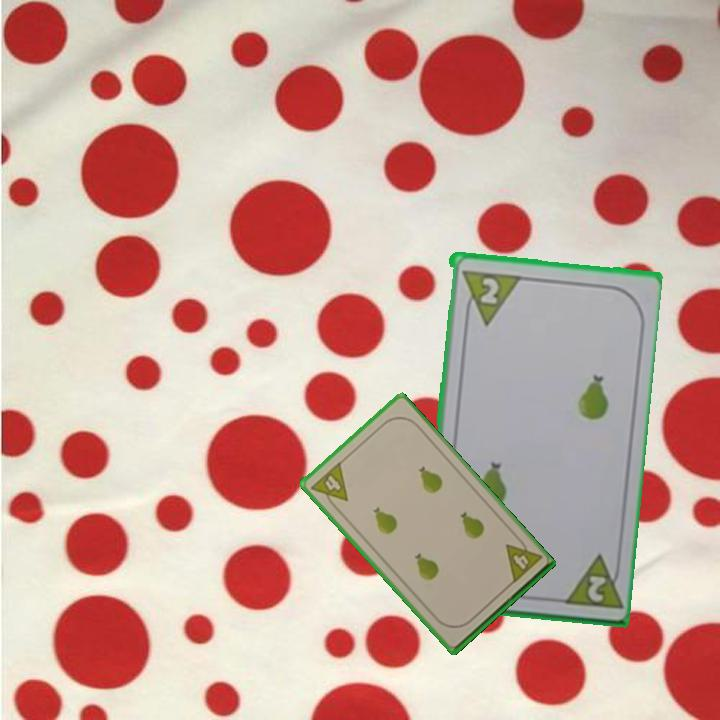2p: (475, 273, 502, 307), (583, 571, 608, 605)
4p: (307, 458, 351, 513), (501, 532, 544, 587)
